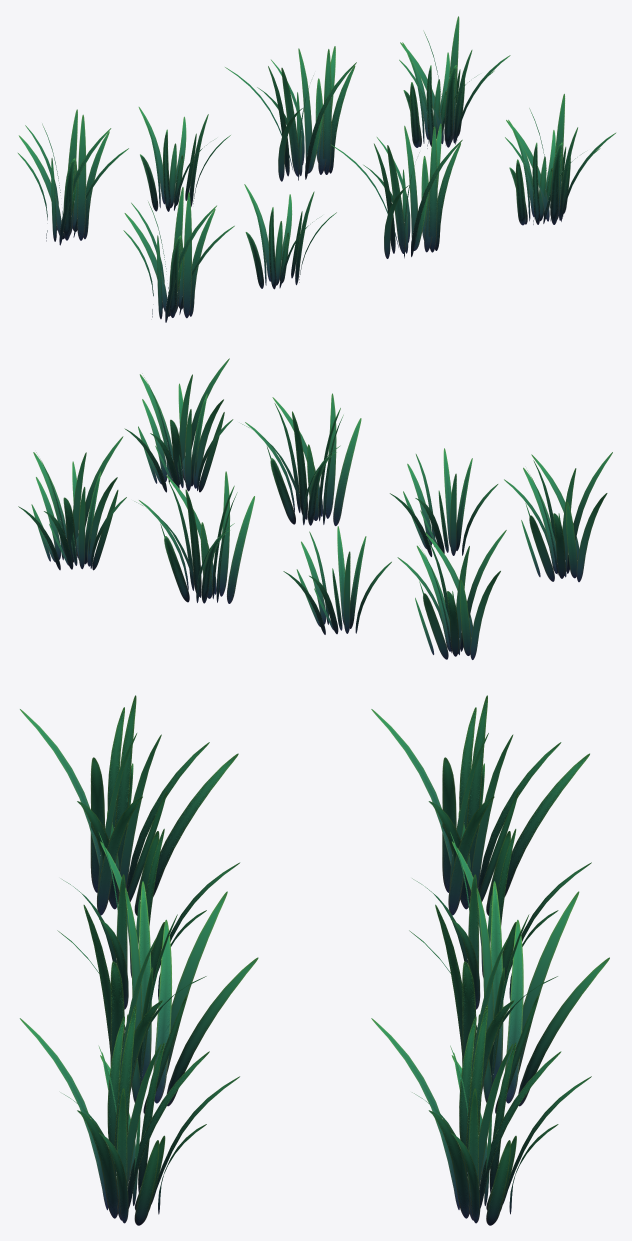
The model's file is Grass_For_Games.glb.
3 renders of one model, top to bottom at view 1: azimuth 30°, elevation 25°; view 2: azimuth 150°, elevation 25°; view 3: azimuth 270°, elevation 25°, orthographic. The views are drawn at different scales.
Parts seen in each view (by area): view 1: Grass:Grass_low6.002, Grass:Grass_low6.001, Grass:Grass_low12.001, Grass:Grass_low12, Grass:Grass_low13.001, Grass:Grass_low13.002, Grass:Grass_low12.002, Grass:Grass_low12.003; view 2: Grass:Grass_low12, Grass:Grass_low12.001, Grass:Grass_low6.002, Grass:Grass_low6.001, Grass:Grass_low13.001, Grass:Grass_low13.002, Grass:Grass_low12.003, Grass:Grass_low12.002; view 3: Grass:Grass_low6.001, Grass:Grass_low6.002, Grass:Grass_low13.001, Grass:Grass_low13.002, Grass:Grass_low12, Grass:Grass_low12.001, Grass:Grass_low12.003, Grass:Grass_low12.002.
Boxes of the visible parts, x1,y1,x2,y2 form: Grass:Grass_low6.002: [330, 123, 462, 258]; Grass:Grass_low6.001: [225, 46, 356, 181]; Grass:Grass_low12.001: [505, 93, 616, 225]; Grass:Grass_low12: [399, 16, 510, 148]; Grass:Grass_low13.001: [18, 109, 128, 245]; Grass:Grass_low13.002: [123, 187, 234, 322]; Grass:Grass_low12.002: [244, 184, 336, 289]; Grass:Grass_low12.003: [138, 107, 230, 211]; Grass:Grass_low12: [18, 436, 126, 570]; Grass:Grass_low12.001: [124, 358, 233, 492]; Grass:Grass_low6.002: [241, 393, 361, 525]; Grass:Grass_low6.001: [134, 471, 254, 603]; Grass:Grass_low13.001: [397, 530, 506, 659]; Grass:Grass_low13.002: [504, 452, 612, 581]; Grass:Grass_low12.003: [283, 526, 391, 634]; Grass:Grass_low12.002: [389, 448, 498, 556]; Grass:Grass_low6.001: [409, 881, 609, 1113]; Grass:Grass_low6.002: [57, 881, 258, 1113]; Grass:Grass_low13.001: [371, 695, 589, 915]; Grass:Grass_low13.002: [20, 695, 238, 915]; Grass:Grass_low12: [371, 1004, 591, 1225]; Grass:Grass_low12.001: [19, 1004, 239, 1225]; Grass:Grass_low12.003: [412, 829, 591, 1009]; Grass:Grass_low12.002: [62, 828, 240, 1009].
Bounding box in the file's own units: 5.04 × 1.2 × 3.27.
Materials: 2 (2 with a texture image).
